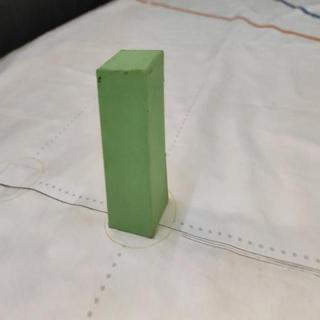greenbox: (97, 48, 169, 238)
